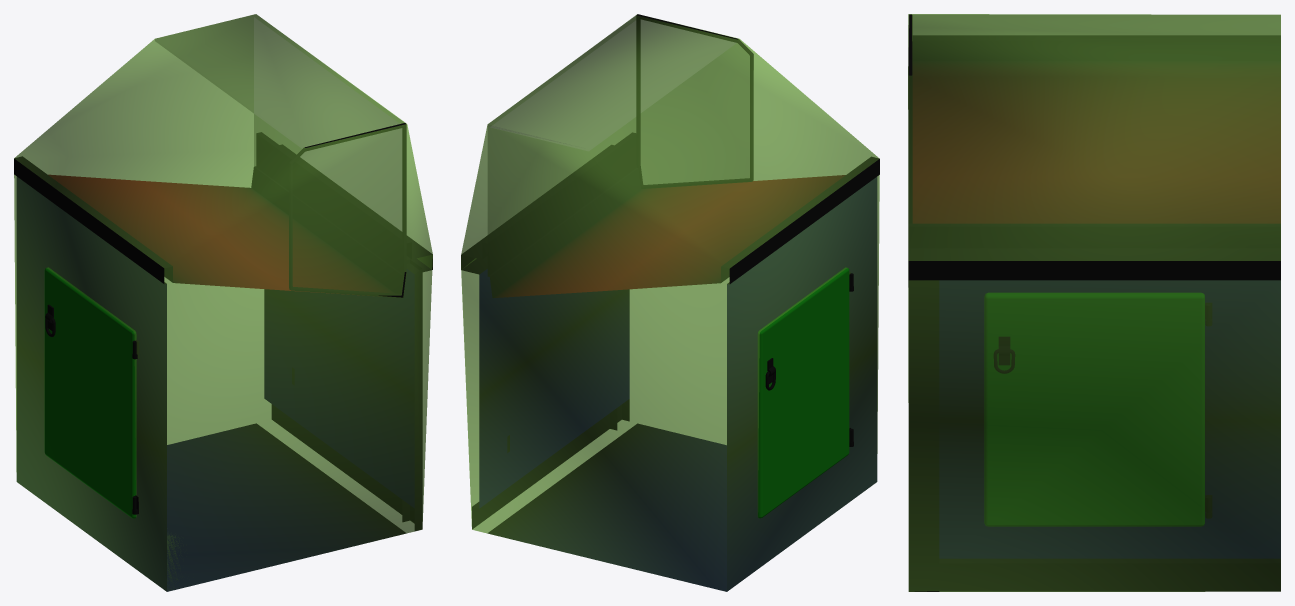
Rendered from M_md_Stall5_1m_02.fbx.
The picture shows the model from 3 angles, left to right: view 1: azimuth 30°, elevation 25°; view 2: azimuth 150°, elevation 25°; view 3: azimuth 270°, elevation 25°; orthographic projection. The views are drawn at different scales.
Visible parts, largest first — view 1: M_md_Stall5_1m_02_col_01, M_md_Stall5_1m_02_LOD0; view 2: M_md_Stall5_1m_02_col_01, M_md_Stall5_1m_02_LOD0; view 3: M_md_Stall5_1m_02_LOD0, M_md_Stall5_1m_02_col_01.
Boxes of the visible parts, x1,y1,x2,y2 form: M_md_Stall5_1m_02_col_01: (14, 14, 432, 591); M_md_Stall5_1m_02_LOD0: (14, 14, 432, 591); M_md_Stall5_1m_02_col_01: (461, 14, 879, 591); M_md_Stall5_1m_02_LOD0: (461, 14, 879, 591); M_md_Stall5_1m_02_LOD0: (908, 14, 1280, 591); M_md_Stall5_1m_02_col_01: (908, 14, 1280, 591).
Size of what is drawn, in the model's own units: 105 by 150 by 100.
